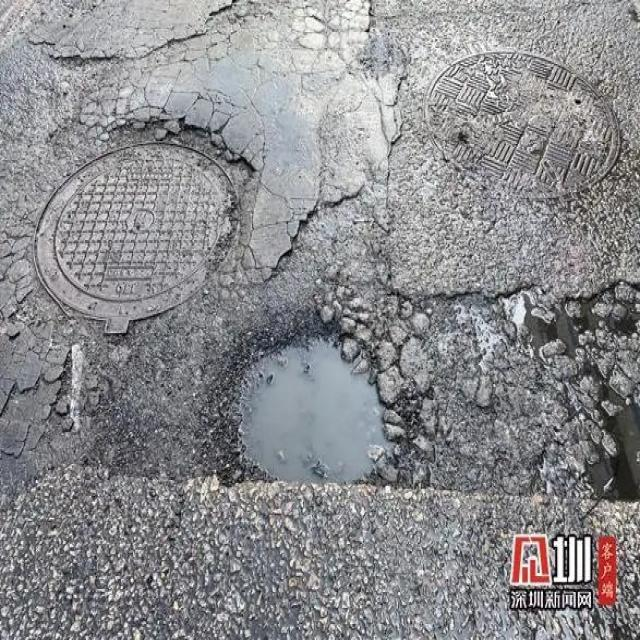Pothole: (29, 121, 242, 342), (468, 279, 639, 509), (229, 316, 402, 490)
